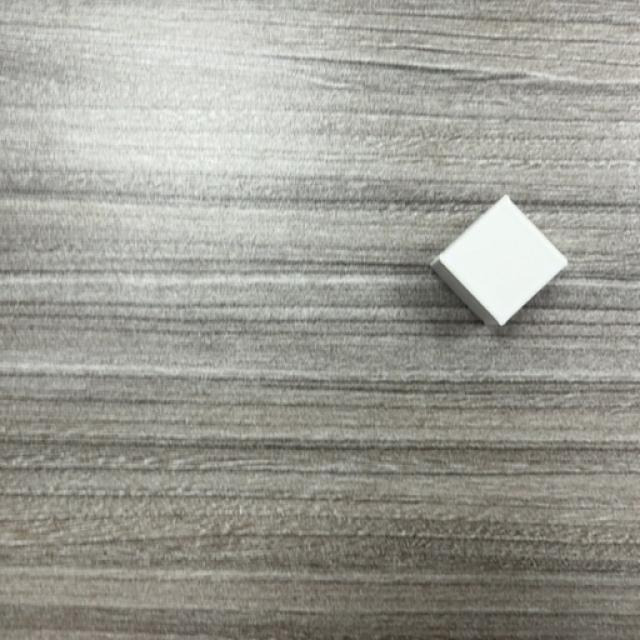Blanco: (428, 198, 568, 330)
